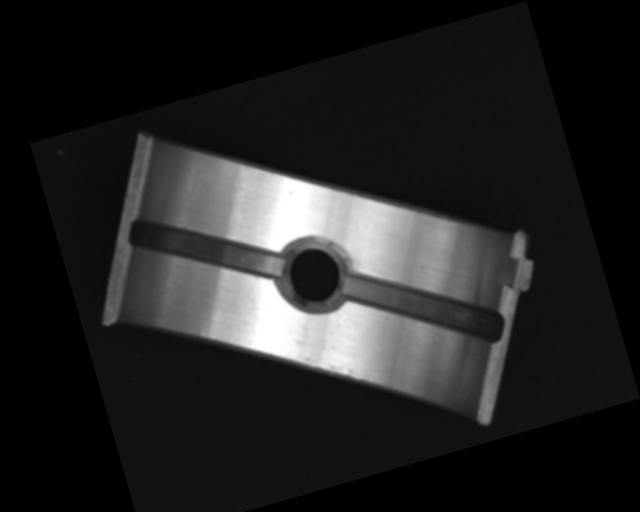gap: (340, 237, 508, 381), (126, 183, 287, 312)
hole: (274, 228, 351, 316)
